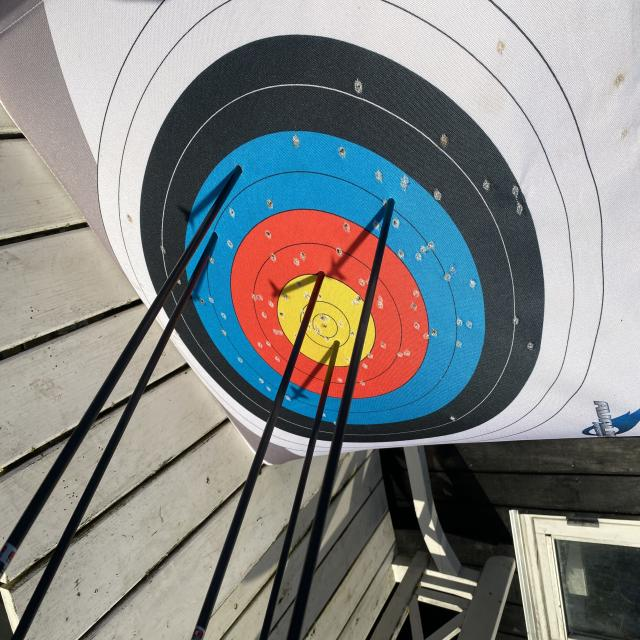Arrow_Blue: (370, 175, 409, 224), (227, 154, 252, 196), (207, 222, 231, 264)
Arrow_Red: (302, 255, 336, 287)
Arrow_Yellow: (324, 326, 352, 368)
